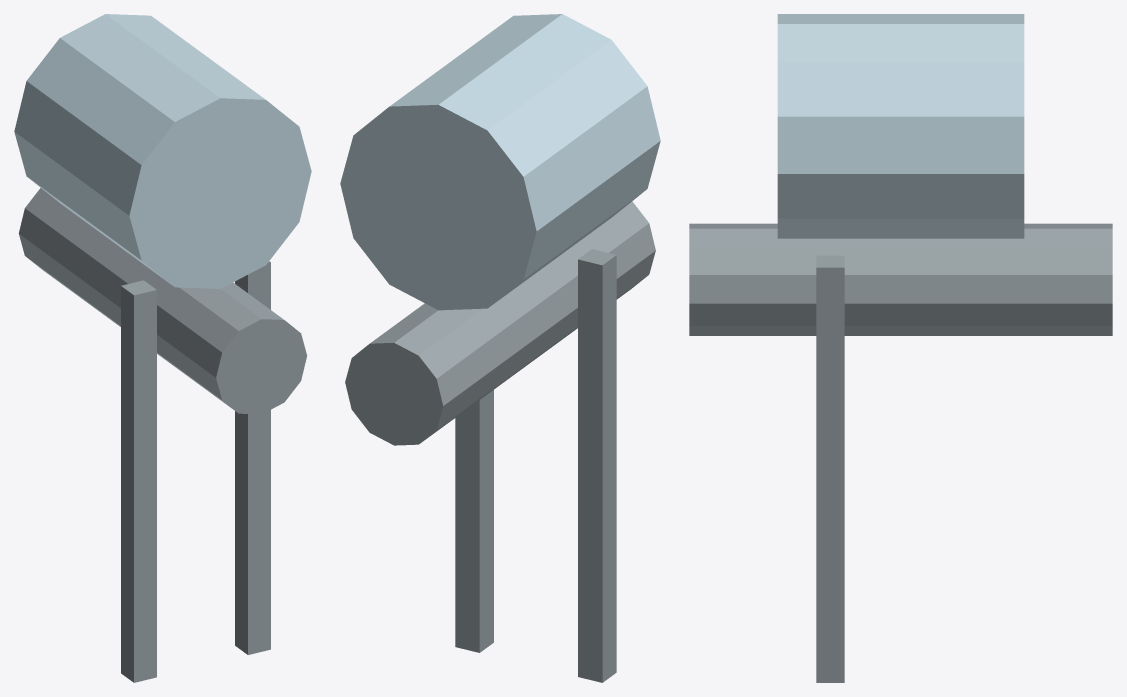
Rendered from telescope_basic.glb.
3 views of the same model, side by side, from view 1: azimuth 30°, elevation 25°; view 2: azimuth 150°, elevation 25°; view 3: azimuth 270°, elevation 25° (orthographic). The views are drawn at different scales.
Visible parts, largest first — view 1: part_01, part_00, part_02, part_03; view 2: part_01, part_00, part_02, part_03; view 3: part_01, part_00, part_03.
Boxes of the visible parts, x1=… form: part_01: x1=14, y1=14, x2=311, y2=288; part_00: x1=18, y1=188, x2=307, y2=414; part_02: x1=121, y1=280, x2=156, y2=682; part_03: x1=235, y1=261, x2=270, y2=654; part_01: x1=340, y1=14, x2=660, y2=310; part_00: x1=345, y1=201, x2=655, y2=445; part_02: x1=578, y1=249, x2=616, y2=682; part_03: x1=455, y1=390, x2=493, y2=652; part_01: x1=777, y1=14, x2=1024, y2=238; part_00: x1=689, y1=223, x2=1112, y2=335; part_03: x1=816, y1=255, x2=844, y2=682.
Bounding box in the file's own units: 0.64 × 1.95 × 1.2.
